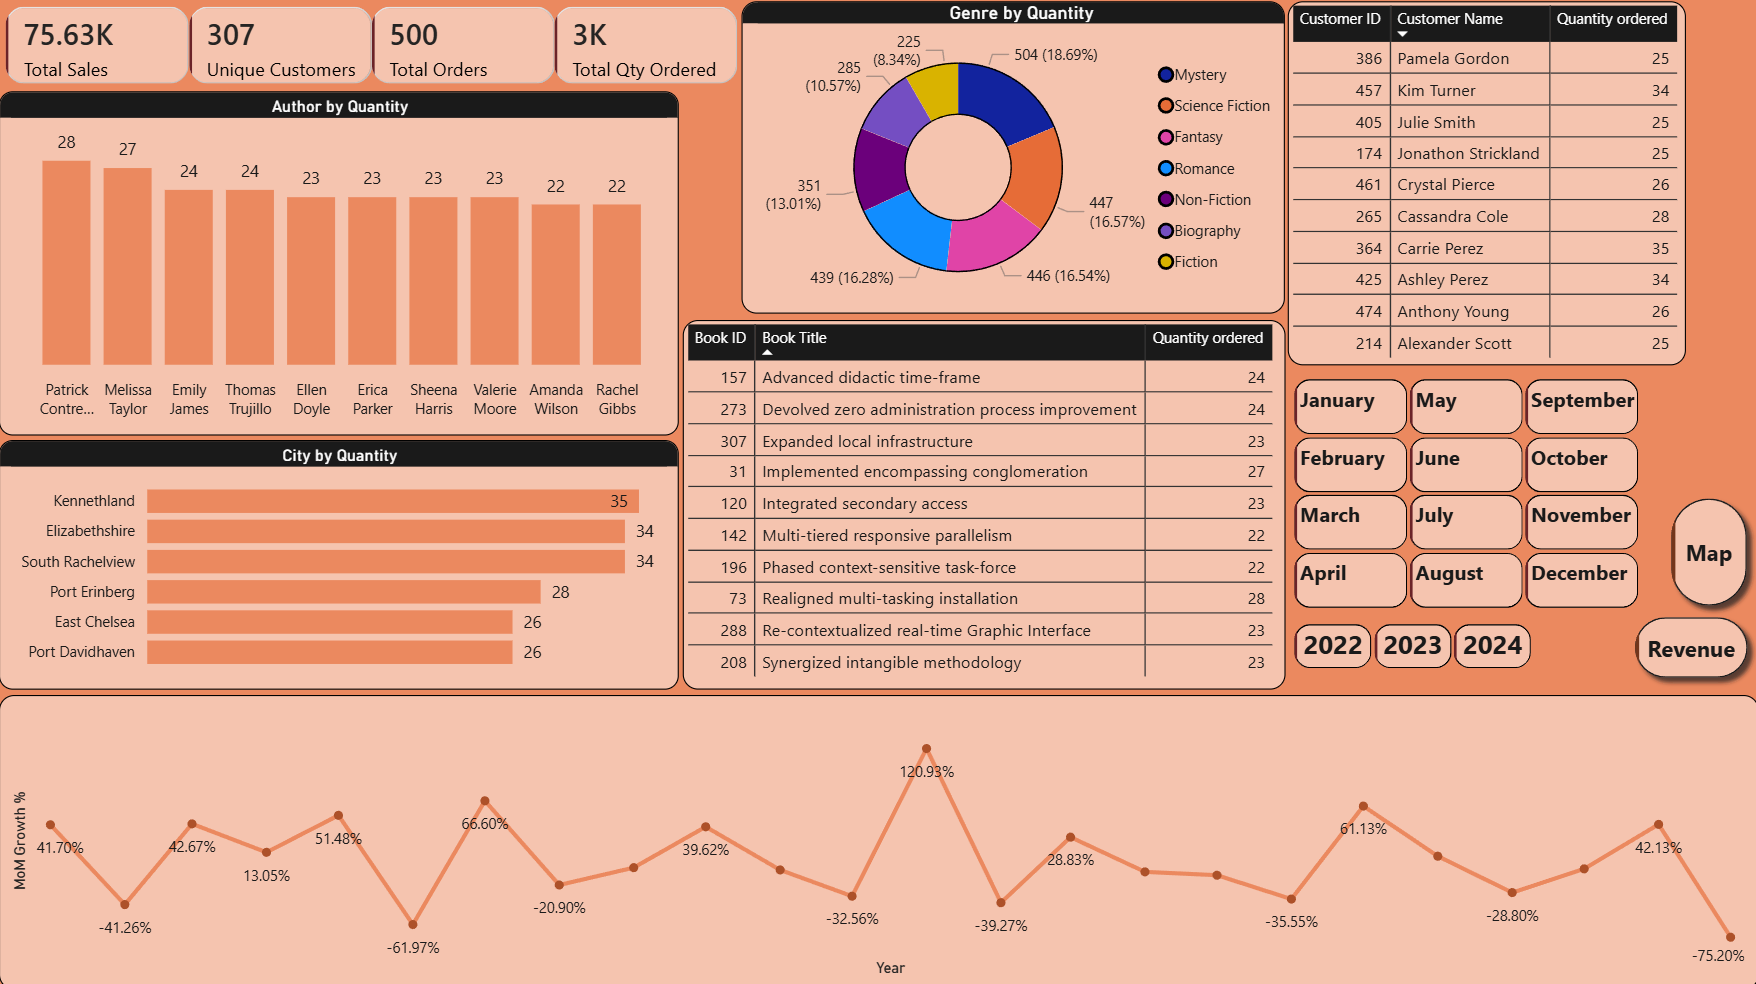

What the dashboard file says about the page in this screenshot:
{"tool":"powerbi","page":{"name":"Quantity","canvas":[1280,720],"ordinal":1},"visuals":[{"type":"tableEx","fields":{"Values":["public book_store.book_id","public book_store.book_title","Sum(public book_store.quantity)"]},"box":[496.9,233.1,438,268.7],"z":0},{"type":"tableEx","fields":{"Values":["public book_store.customer_id","public book_store.customer_name","Sum(public book_store.quantity)"]},"box":[937.4,1.2,289.6,265],"z":1000},{"type":"advancedSlicerVisual","fields":{"Values":["Date.Year"]},"box":[937.4,449.1,182.8,42.9],"z":2000},{"type":"donutChart","title":"Genre by Quantity","fields":{"Category":["public book_store.genre"],"Y":["Sum(public book_store.quantity)"]},"box":[539.9,1.2,395.1,227],"z":3000},{"type":"clusteredBarChart","title":"City by Quantity","fields":{"Category":["public book_store.city"],"Y":["Sum(public book_store.quantity)"]},"box":[0,320.2,494.5,181.6],"z":4000},{"type":"columnChart","title":"Author by Quantity","fields":{"Category":["public book_store.author"],"Y":["Sum(public book_store.quantity)"]},"box":[0,66.3,494.5,250.3],"z":5000},{"type":"lineChart","title":"MoM Growth","fields":{"Y":["public monthly_sales.MoM Growth %"],"Category":["Date.Date.Variation.Date Hierarchy.Year","Date.Date.Variation.Date Hierarchy.Month"]},"box":[0,505.5,1279.8,214.7],"z":6000},{"type":"cardVisual","fields":{"Data":["Dynamic_KPI.Dyn_Total_Orders","Dynamic_KPI.Dyn_Unique_Cus","Dynamic_KPI.Dyn_Total_Orders1","Dynamic_KPI.Dyn_Total_Qty_Ordered"]},"box":[0,0,544.8,66.3],"z":7000},{"type":"advancedSlicerVisual","fields":{"Values":["Date.Month Name"]},"box":[937.4,271.2,262.6,177.9],"z":8000},{"type":"pageNavigator","box":[1208.6,354.6,71.2,94.5],"z":8001},{"type":"pageNavigator","box":[1181.6,440.5,98.2,60.1],"z":8002}]}

Visuals, with their boxes in screenshot pixels (x1, y1, x2, y2), scaled from the page's 1280x720 canvas onto the 1756x984 screenshot:
tableEx - public book_store.book_id x public book_store.book_title: (left=682, top=319, right=1283, bottom=686)
tableEx - public book_store.customer_id x public book_store.customer_name: (left=1286, top=2, right=1683, bottom=364)
advancedSlicerVisual - Date.Year: (left=1286, top=614, right=1537, bottom=672)
"Genre by Quantity" donutChart: (left=741, top=2, right=1283, bottom=312)
"City by Quantity" clusteredBarChart: (left=0, top=438, right=678, bottom=686)
"Author by Quantity" columnChart: (left=0, top=91, right=678, bottom=433)
"MoM Growth" lineChart: (left=0, top=691, right=1755, bottom=983)
cardVisual - Dynamic_KPI.Dyn_Total_Orders x Dynamic_KPI.Dyn_Unique_Cus: (left=0, top=0, right=747, bottom=91)
advancedSlicerVisual - Date.Month Name: (left=1286, top=371, right=1646, bottom=614)
pageNavigator: (left=1658, top=485, right=1755, bottom=614)
pageNavigator: (left=1621, top=602, right=1755, bottom=684)
